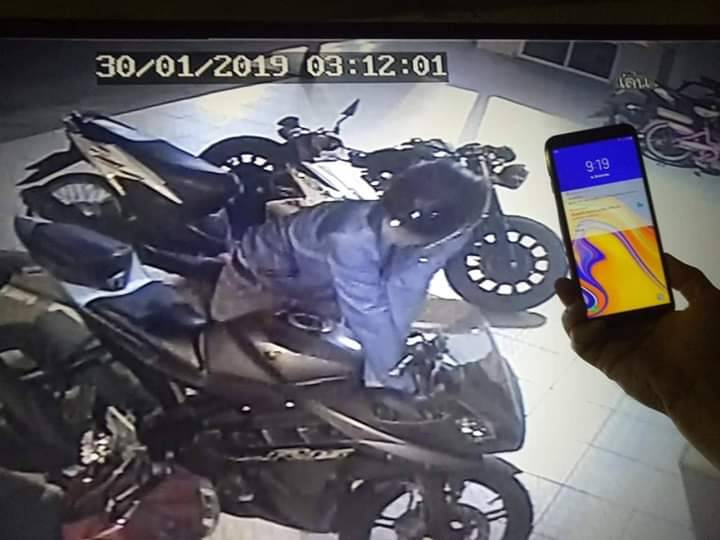Helmet: (374, 149, 510, 252)
motorcycle: (13, 234, 566, 540), (245, 116, 584, 302), (23, 88, 372, 259)
